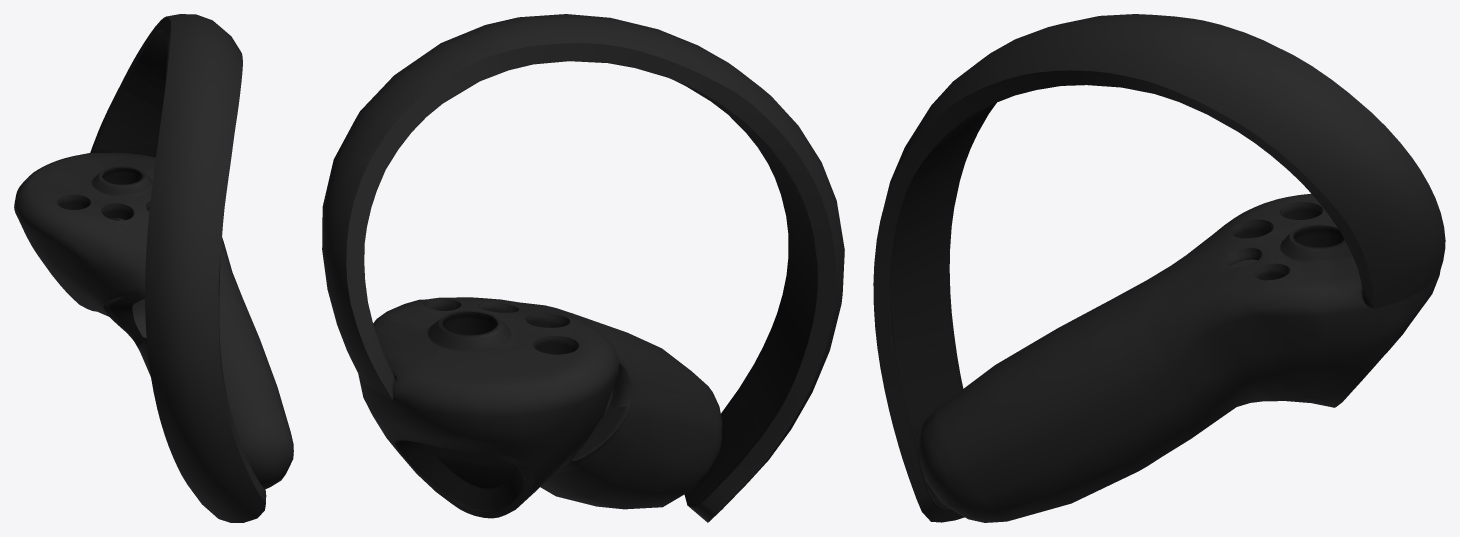
File: RBody.obj
3 renders of one model, left to right at view 1: azimuth 30°, elevation 25°; view 2: azimuth 150°, elevation 25°; view 3: azimuth 270°, elevation 25°, orthographic. The views are drawn at different scales.
Visible parts, largest first — view 1: RBody; view 2: RBody; view 3: RBody.
Part boxes in pixels (<box>): RBody: <box>14,14,293,522</box>; RBody: <box>322,14,844,522</box>; RBody: <box>873,14,1445,522</box>.
Size of the model in its own units: 0.0744 by 0.1341 by 0.1315.
Materials: 1 (1 with a texture image).
